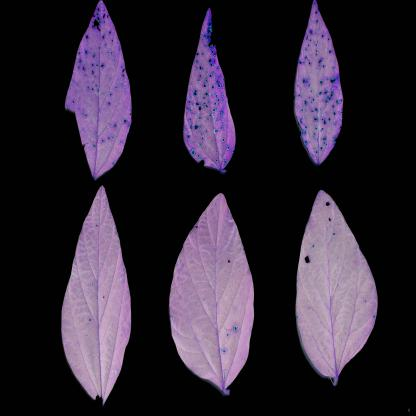soybean leaf: (167, 191, 256, 394), (295, 188, 379, 387), (59, 184, 134, 405)
